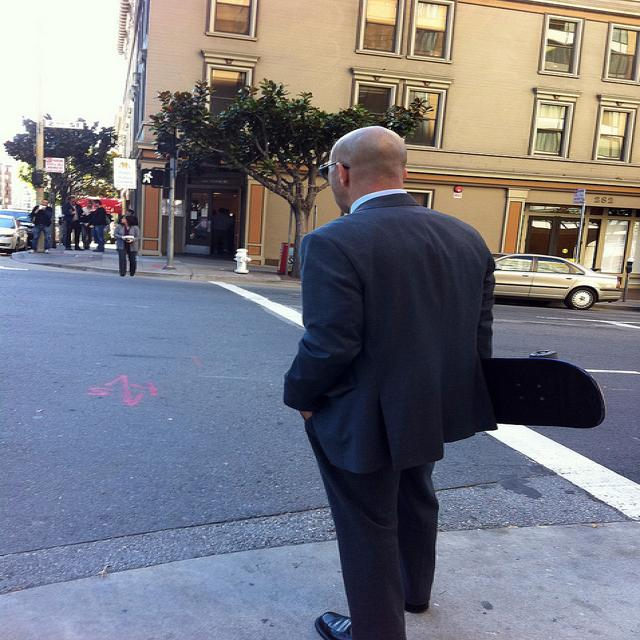Vehicle: (489, 252, 624, 311), (0, 208, 34, 247), (0, 214, 19, 254), (17, 227, 28, 252)
